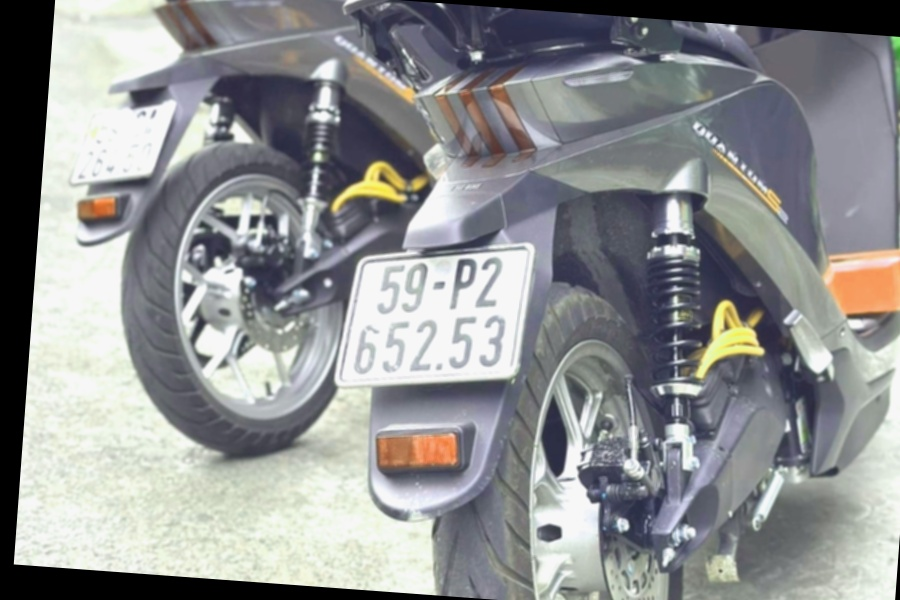Bien-so: (293, 232, 484, 388), (23, 110, 126, 205)
